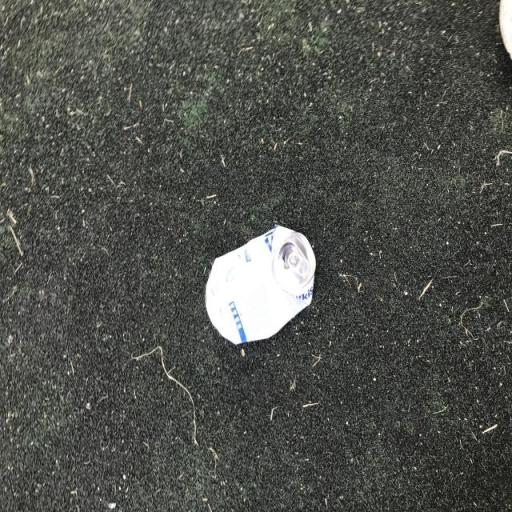metal: (186, 214, 326, 353)
